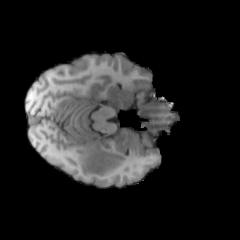glioma: (77, 142, 122, 174)
